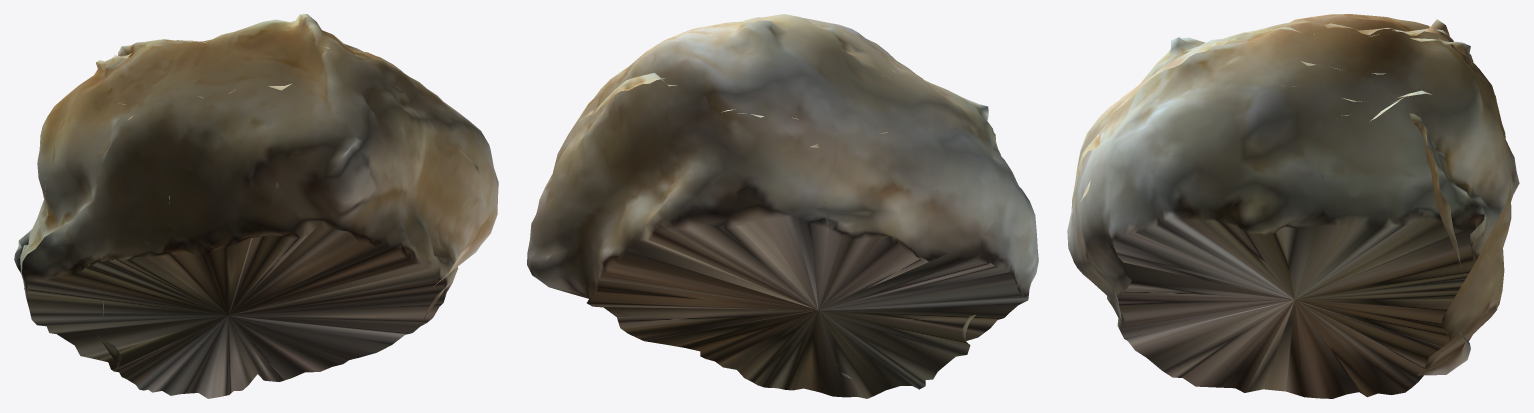
File: Coconut Bun.glb
3 renders of one model, left to right at view 1: azimuth 30°, elevation 25°; view 2: azimuth 150°, elevation 25°; view 3: azimuth 270°, elevation 25°, orthographic. The views are drawn at different scales.
Visible parts, largest first — view 1: Mesh_0; view 2: Mesh_0; view 3: Mesh_0.
Part boxes in pixels (x1,y1,x2,y2): Mesh_0: (14,14,498,398); Mesh_0: (527,14,1038,398); Mesh_0: (1067,14,1519,398).
Size of the model in its own units: 0.3899 by 0.2417 by 0.3751.
1 material, 1 textured.
